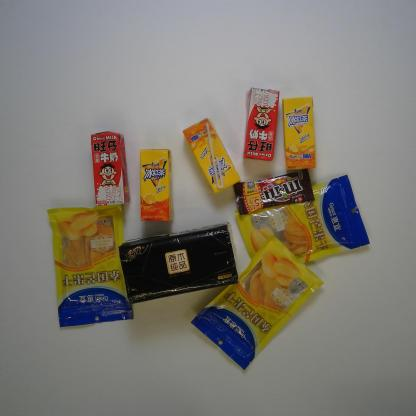Chocolate: (232, 164, 318, 217)
Dried Fruit: (188, 231, 322, 375), (233, 173, 373, 279), (42, 199, 135, 332)
Drink: (180, 115, 244, 198), (134, 145, 178, 226), (282, 95, 318, 173)
Milk: (241, 84, 282, 164), (88, 130, 128, 211)
Tissue: (115, 218, 242, 310)
